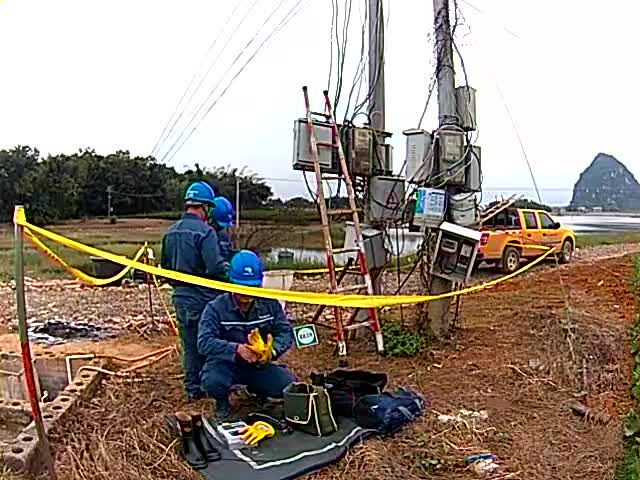downsuit: (198, 366, 296, 407), (170, 296, 203, 392)
halt: (228, 250, 266, 292), (183, 182, 216, 217)
hand: (236, 343, 260, 362)
person: (197, 249, 298, 410), (158, 180, 232, 396)
upsuit: (198, 292, 294, 361), (162, 216, 228, 293)
worksign: (292, 324, 319, 350)
